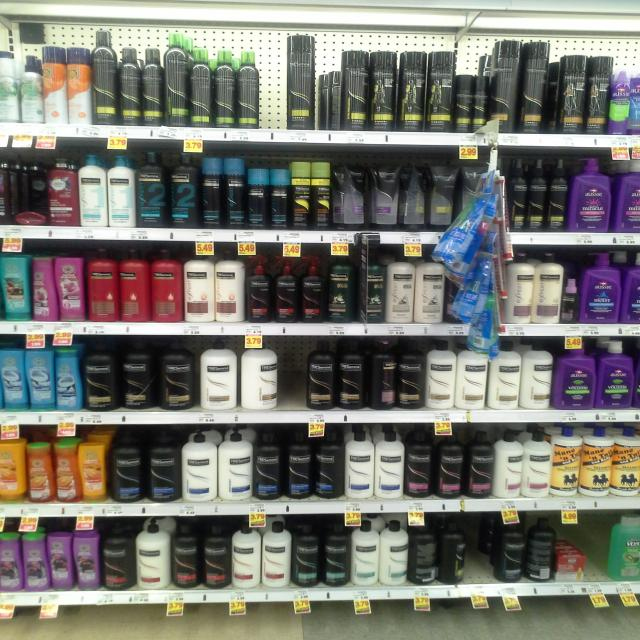unorganised: (408, 521, 469, 585), (236, 336, 285, 410), (286, 31, 318, 131), (340, 49, 370, 131), (401, 158, 430, 234), (370, 337, 398, 411), (525, 514, 555, 583), (12, 172, 49, 224), (30, 254, 57, 323)
